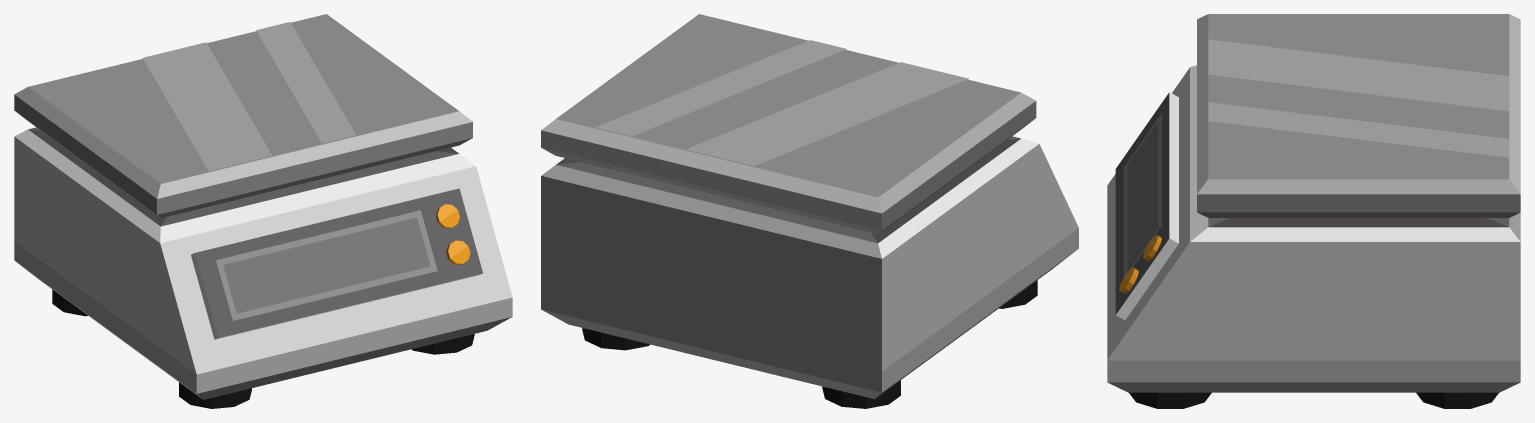
File: BAKE_INT_L3_ScaleElectronic_01.fbx
3 views of the same model, side by side, from view 1: azimuth 30°, elevation 25°; view 2: azimuth 150°, elevation 25°; view 3: azimuth 270°, elevation 25° (orthographic). The views are drawn at different scales.
Parts seen in each view (by area): view 1: BAKE_INT_L3_ScaleElectronic_01; view 2: BAKE_INT_L3_ScaleElectronic_01; view 3: BAKE_INT_L3_ScaleElectronic_01.
Part boxes in pixels (left/top/right/bottom): BAKE_INT_L3_ScaleElectronic_01: left=14, top=14, right=512, bottom=408; BAKE_INT_L3_ScaleElectronic_01: left=541, top=14, right=1078, bottom=408; BAKE_INT_L3_ScaleElectronic_01: left=1107, top=14, right=1520, bottom=408.
Size of the model in its own units: 0.4952 by 0.3106 by 0.4952.
